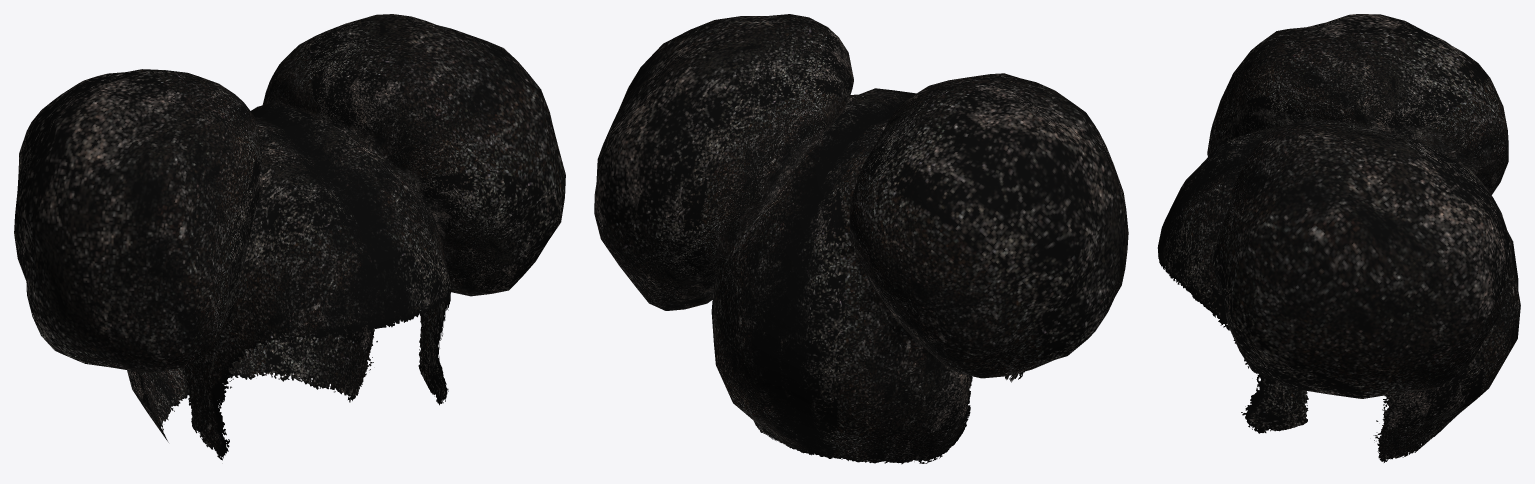
File: mh_elvs_micky_afro.glb
3 renders of one model, left to right at view 1: azimuth 30°, elevation 25°; view 2: azimuth 150°, elevation 25°; view 3: azimuth 270°, elevation 25°, orthographic. The views are drawn at different scales.
Parts seen in each view (by area): view 1: mh_elvs_micky_afro; view 2: mh_elvs_micky_afro; view 3: mh_elvs_micky_afro.
Boxes of the visible parts, x1,y1,x2,y2 form: mh_elvs_micky_afro: (14,14,565,460); mh_elvs_micky_afro: (594,14,1128,464); mh_elvs_micky_afro: (1157,14,1520,462).
Size of the model in its own units: 0.3237 by 0.2428 by 0.2283.
Materials: 1 (1 with a texture image).
